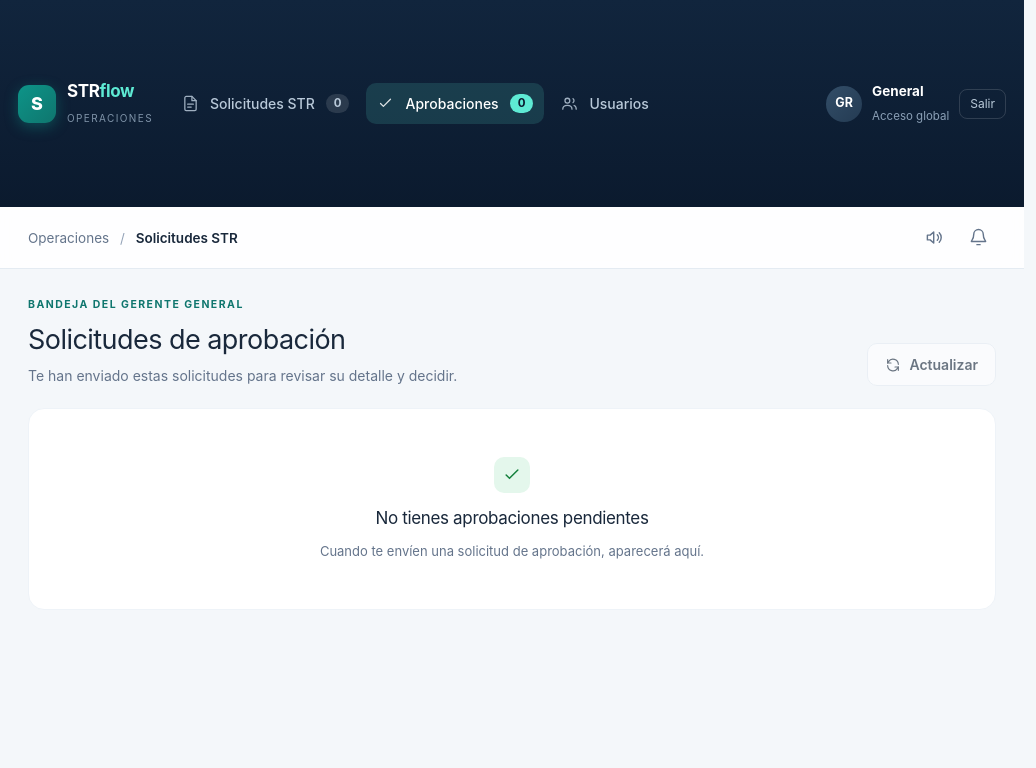
Test: detalle de la decisión › no ofrece ver decisión en las pendientes
This screenshot has width=1036, height=768.
Click the link "Solicitudes STR 0" at (266, 104), box [182, 94, 349, 113]
(page scrolled)
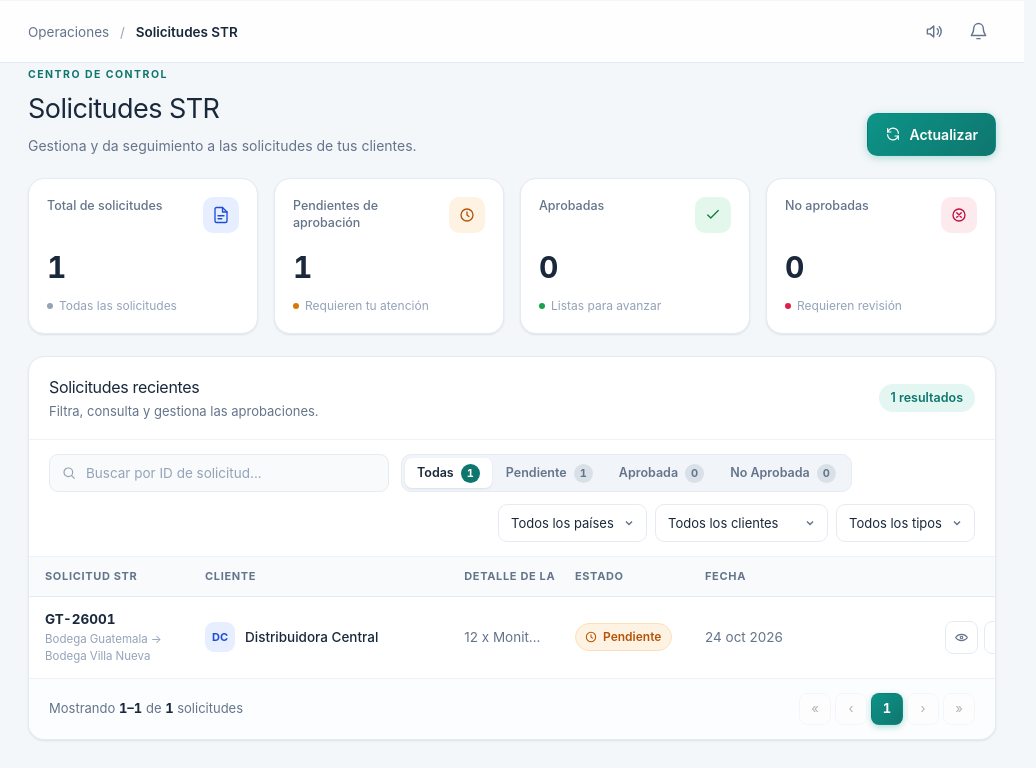
Expected: the text "Mostrando 1–1 de 1 solicitudes" is shown, [49, 699, 243, 718]
